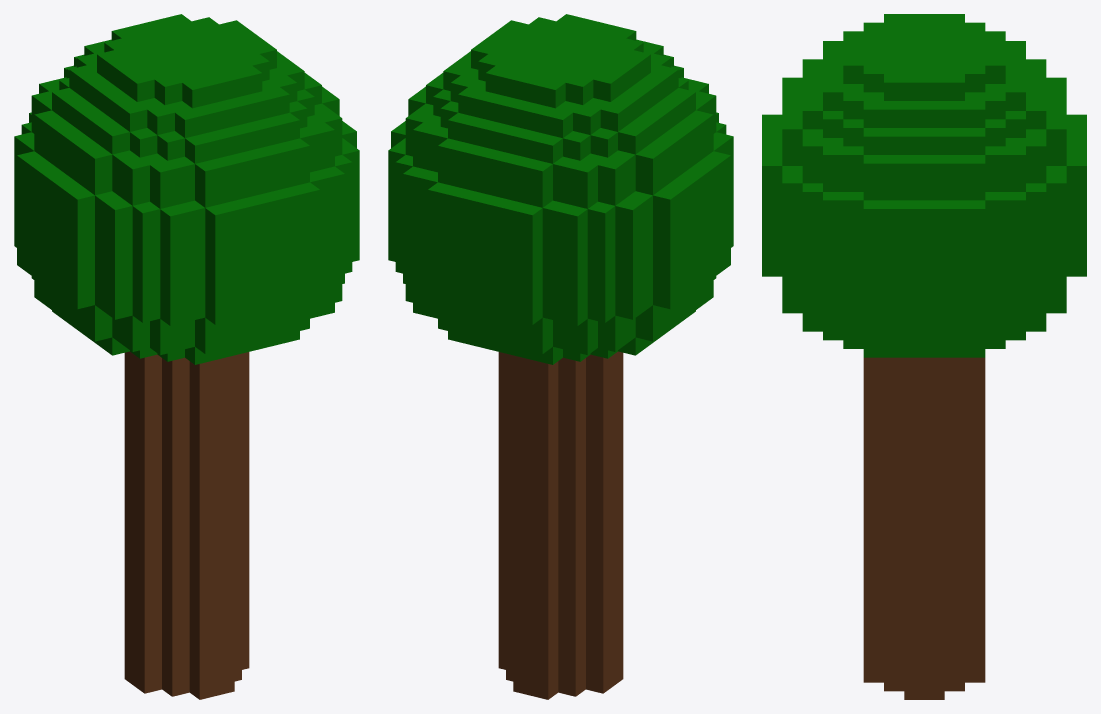
File: tree.obj
3 views of the same model, side by side, from view 1: azimuth 30°, elevation 25°; view 2: azimuth 150°, elevation 25°; view 3: azimuth 270°, elevation 25° (orthographic).
Size of the model in its own units: 16 by 34 by 16.
1 material, 1 textured.
